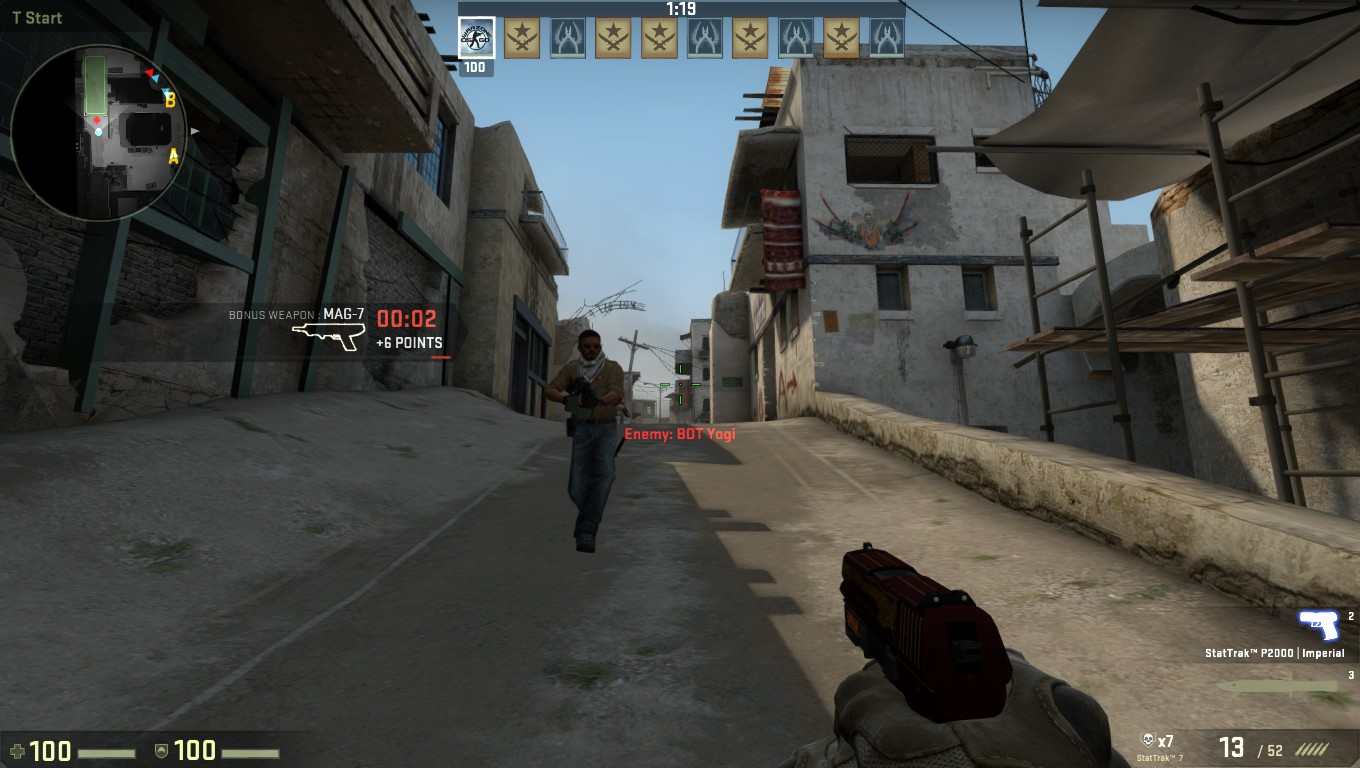t: (557, 326, 620, 553)
th: (572, 327, 613, 367)
